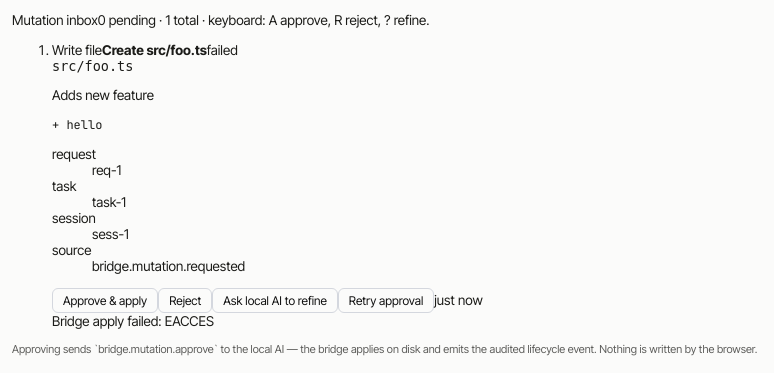
<MutationInbox/> › failed intents expose a Retry approval button that re-sends approve
This screenshot has width=774, height=373.
Click the button with test id "mutation-inbox-retry".
click(386, 300)  # box [338,288,434,312]
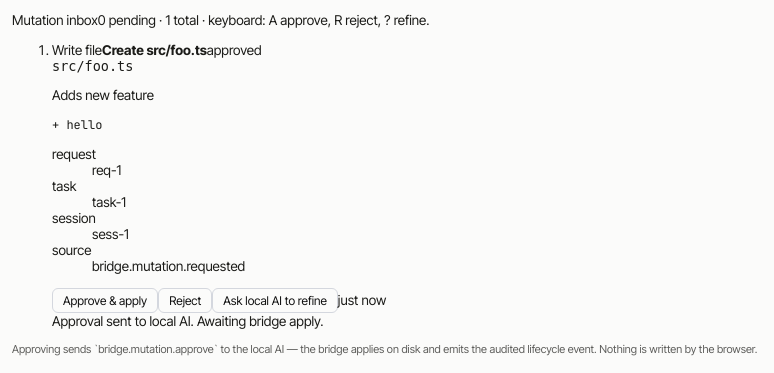
Result: the text "approved" is shown at [207,42,262,58]
